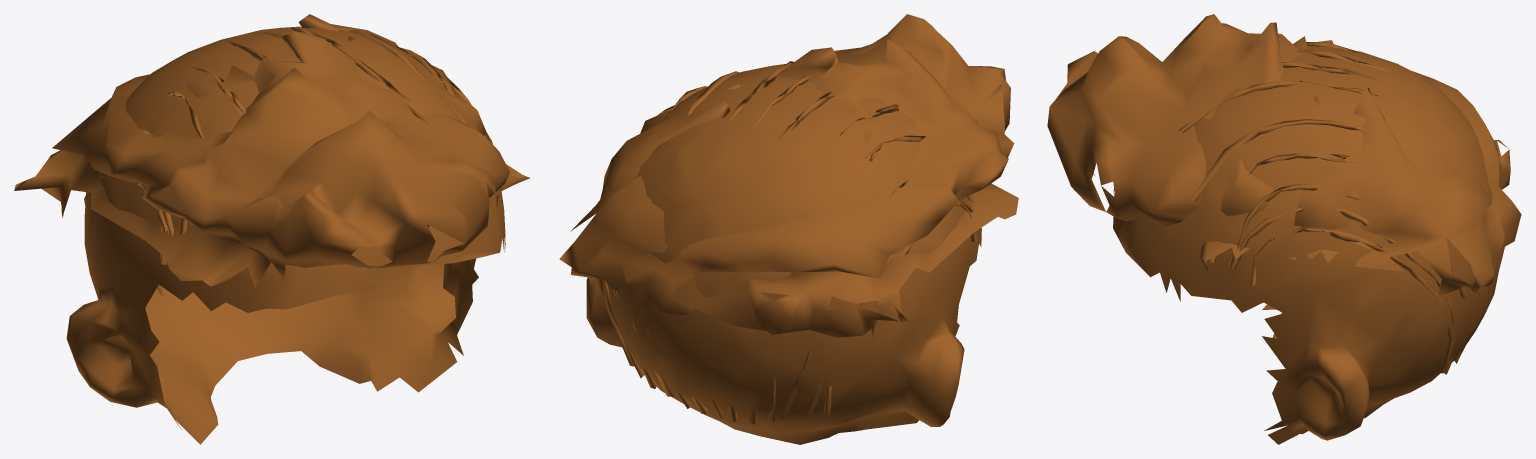
Rendered from quiff.glb.
The picture shows the model from 3 angles, left to right: view 1: azimuth 30°, elevation 25°; view 2: azimuth 150°, elevation 25°; view 3: azimuth 270°, elevation 25°; orthographic projection. The views are drawn at different scales.
Visible parts, largest first — view 1: Hair, HairScalp, HairPulledRootStrands; view 2: HairScalp, Hair, HairPulledRootStrands; view 3: HairScalp, Hair, HairPulledRootStrands.
Part boxes in pixels (<box>): Hair: <box>14,14,530,287</box>; HairScalp: <box>66,26,505,444</box>; HairPulledRootStrands: <box>84,27,492,295</box>; HairScalp: <box>586,64,981,444</box>; Hair: <box>559,14,1018,340</box>; HairPulledRootStrands: <box>603,61,977,424</box>; HairScalp: <box>1113,45,1499,444</box>; Hair: <box>1047,14,1521,297</box>; HairPulledRootStrands: <box>1179,42,1488,374</box>.
Bounding box in the file's own units: 0.4667 × 0.4295 × 0.5034.
